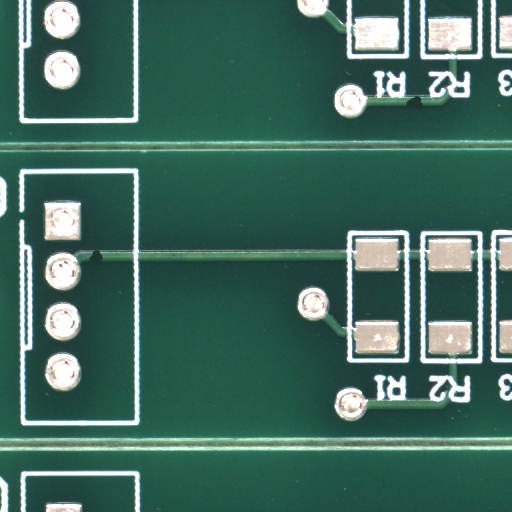Mouse_bite: (415, 102, 432, 115), (95, 256, 107, 268)
